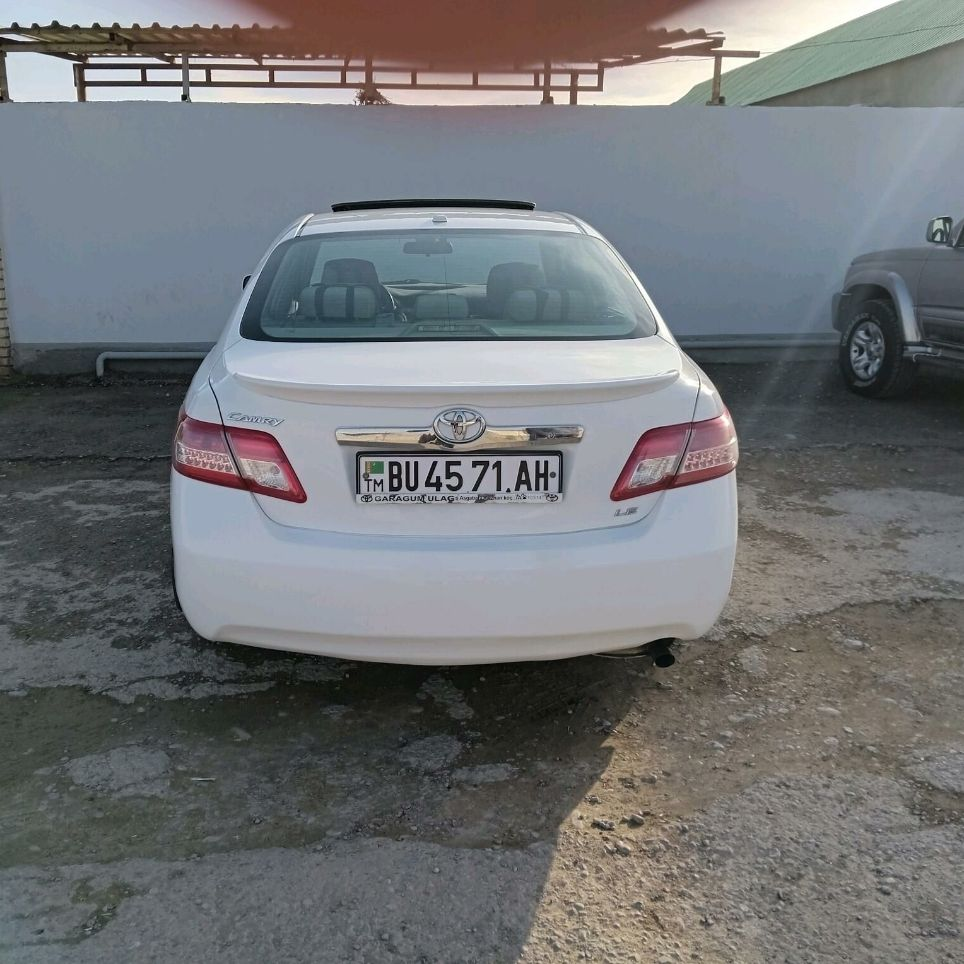license plate: (354, 452, 563, 503)
truck: (165, 201, 740, 669)
